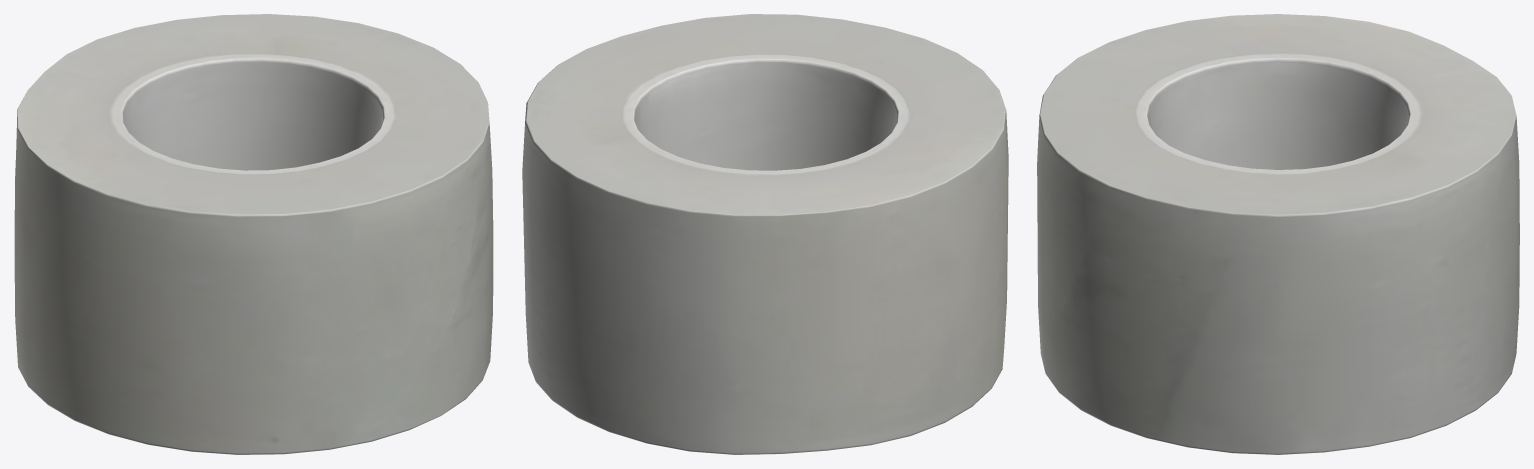
Rendered from medical_tape.glb.
3 renders of one model, left to right at view 1: azimuth 30°, elevation 25°; view 2: azimuth 150°, elevation 25°; view 3: azimuth 270°, elevation 25°, orthographic.
Visible parts, largest first — view 1: medical_tape; view 2: medical_tape; view 3: medical_tape.
Part boxes in pixels (x1=…): medical_tape: x1=14, y1=14, x2=493, y2=454; medical_tape: x1=522, y1=14, x2=1008, y2=454; medical_tape: x1=1037, y1=14, x2=1519, y2=454.
Bounding box in the file's own units: 0.0453 × 0.025 × 0.0452.
Materials: 1 (1 with a texture image).
